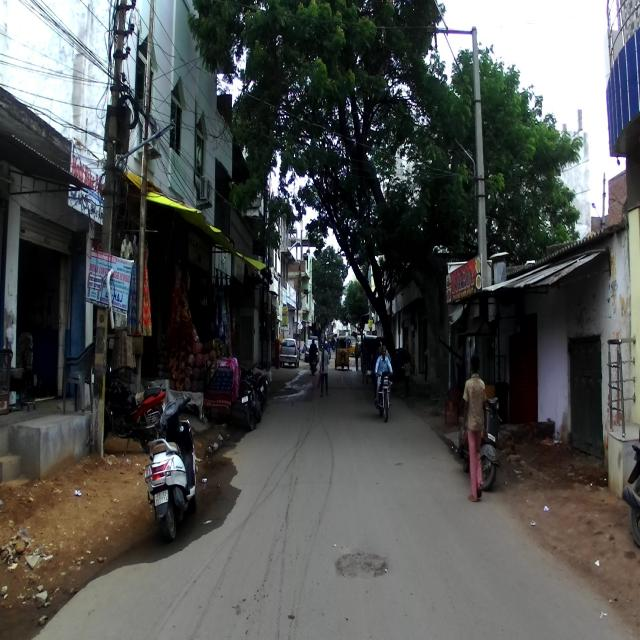motorcycle_Hero: (104, 355, 166, 452), (374, 370, 392, 423)
scooter: (147, 389, 198, 537), (457, 396, 502, 490)
